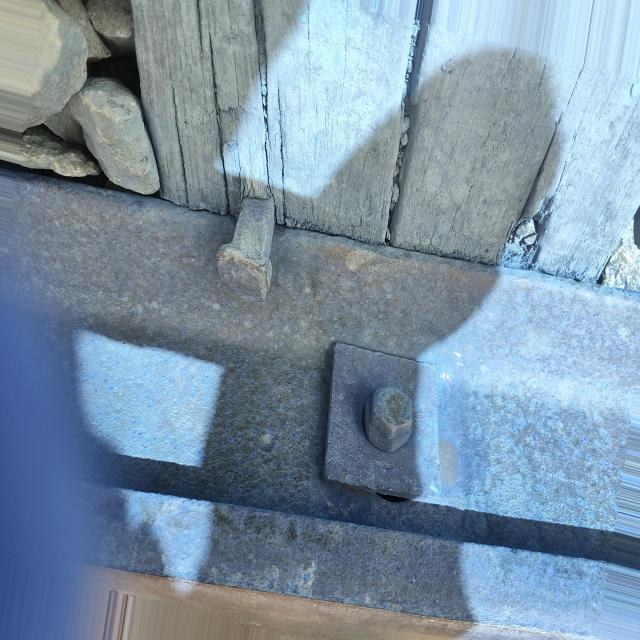Good Fasteners: (217, 197, 274, 301)
Missing Dogscrew: (508, 218, 536, 246)
